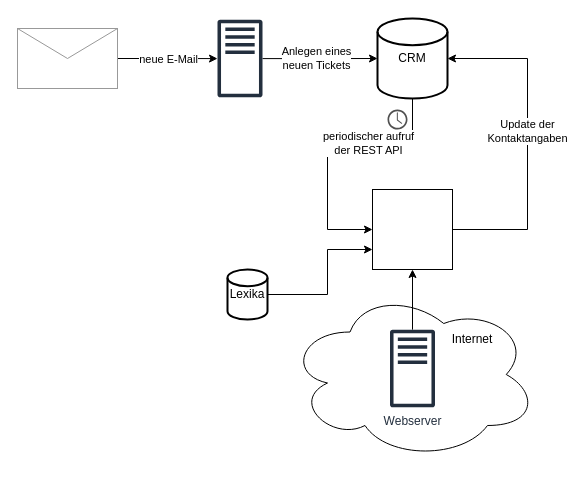
Image size: 584x477. Some labels were removed from this diagram. The centre of each missing label's shape, as x and y in pixels:
Automatische Stammdaten Pflege: [412,229]
Mailserver: [239,58]
